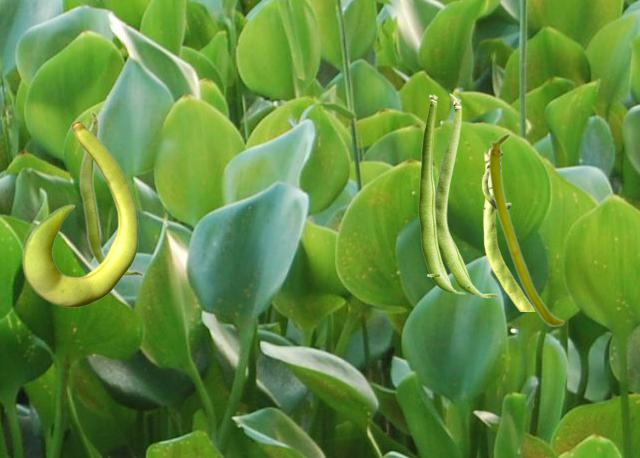french_bean: (22, 121, 138, 306), (488, 132, 564, 326), (436, 93, 497, 297), (78, 110, 144, 277), (418, 94, 465, 293), (481, 148, 534, 310)
